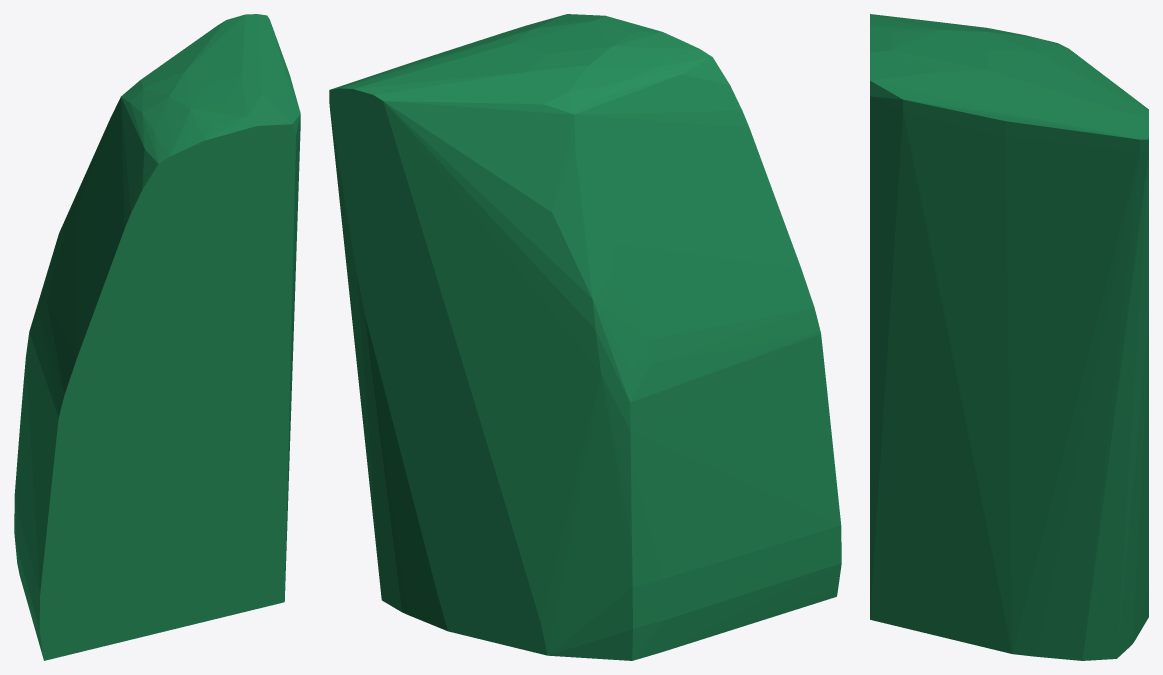
The model's file is right-shoulder-pitch-0_part_129.obj.
The picture shows the model from 3 angles, left to right: view 1: azimuth 30°, elevation 25°; view 2: azimuth 150°, elevation 25°; view 3: azimuth 270°, elevation 25°; orthographic projection. The views are drawn at different scales.
Size of the model in its own units: 0.0112 by 0.0149 by 0.00678.
